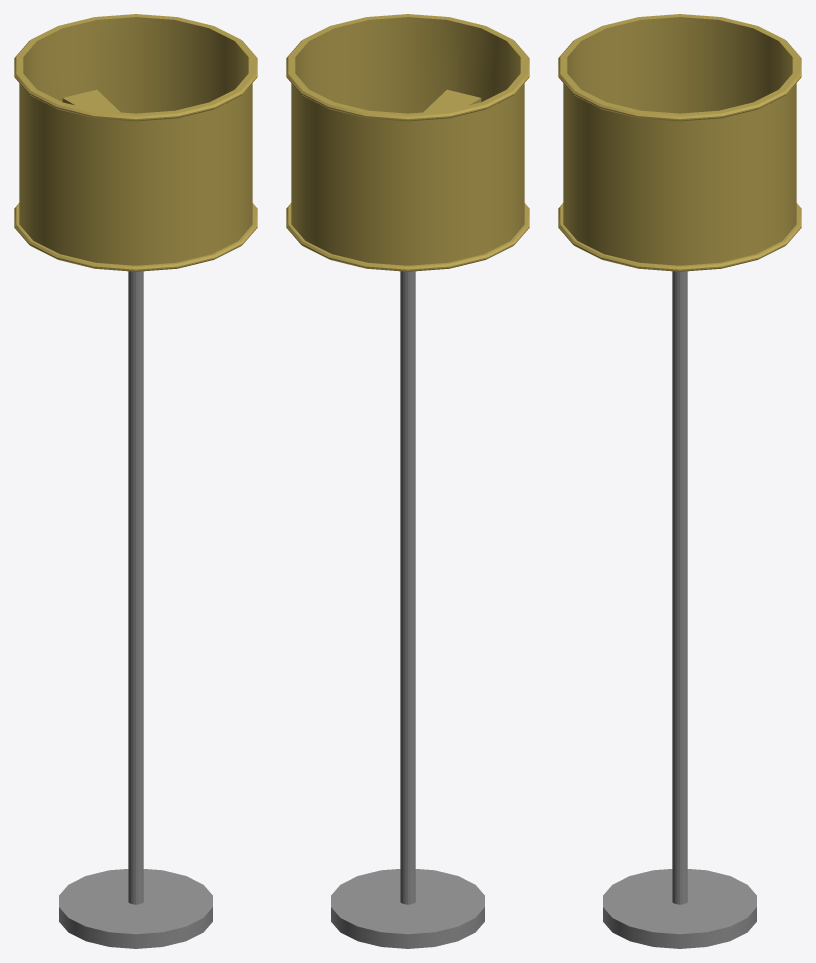
The model's file is lamp 2 - small cylinder.FBX.
3 renders of one model, left to right at view 1: azimuth 30°, elevation 25°; view 2: azimuth 150°, elevation 25°; view 3: azimuth 270°, elevation 25°, orthographic.
Parts seen in each view (by area): view 1: Cylinder002; view 2: Cylinder002; view 3: Cylinder002.
Part boxes in pixels (<box>): Cylinder002: <box>14,14,257,948</box>; Cylinder002: <box>286,14,529,948</box>; Cylinder002: <box>558,14,801,948</box>.
Size of the model in its own units: 31.6 by 120 by 31.14.
